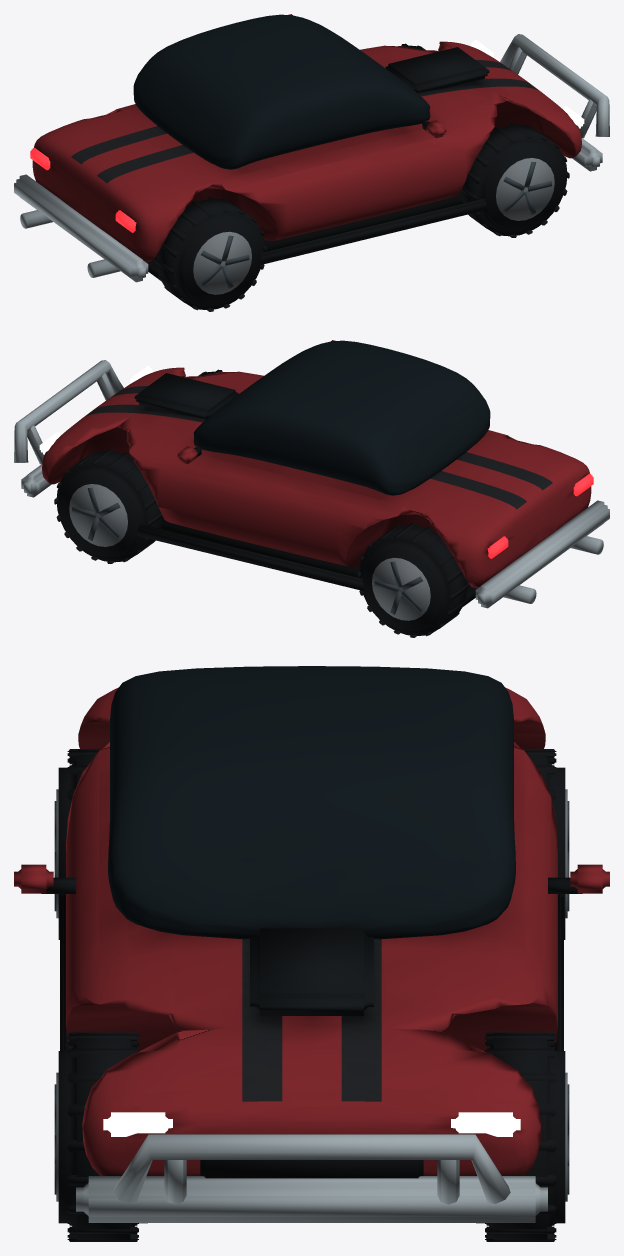
File: bruiser.glb
3 views of the same model, one above another, from view 1: azimuth 30°, elevation 25°; view 2: azimuth 150°, elevation 25°; view 3: azimuth 270°, elevation 25° (orthographic). The views are drawn at different scales.
Visible parts, largest first — view 1: shell, wheel_RR, wheel_FR; view 2: shell, wheel_RL, wheel_FL; view 3: shell, wheel_FL, wheel_FR, wheel_RR, wheel_RL.
Boxes of the visible parts, <box> form: shell: <box>14,14,609,282</box>; wheel_RR: <box>154,197,266,311</box>; wheel_FR: <box>460,123,569,237</box>; shell: <box>14,340,609,608</box>; wheel_RL: <box>357,523,469,637</box>; wheel_FL: <box>54,449,163,563</box>; shell: <box>14,666,609,1222</box>; wheel_FL: <box>476,1032,569,1241</box>; wheel_FR: <box>54,1032,147,1241</box>; wheel_RR: <box>54,749,101,939</box>; wheel_RL: <box>523,749,569,939</box>.
Size of the model in its own units: 4.54 by 1.56 by 2.4.
